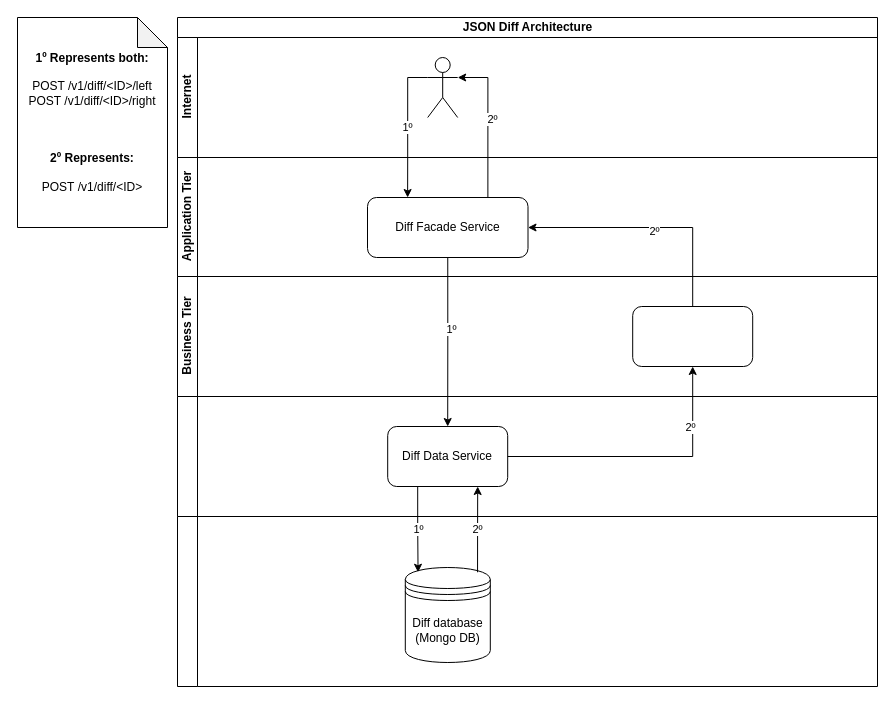
Image size: 895x704. Some labels were removed from this diagram. Here are the shapes that lost their labels. From the top down, the box of each, then its label:
(427, 56, 458, 118): Client
(632, 306, 753, 366): Diff Business Service
(176, 396, 878, 516): Data tier
(176, 516, 878, 686): Database Tier
